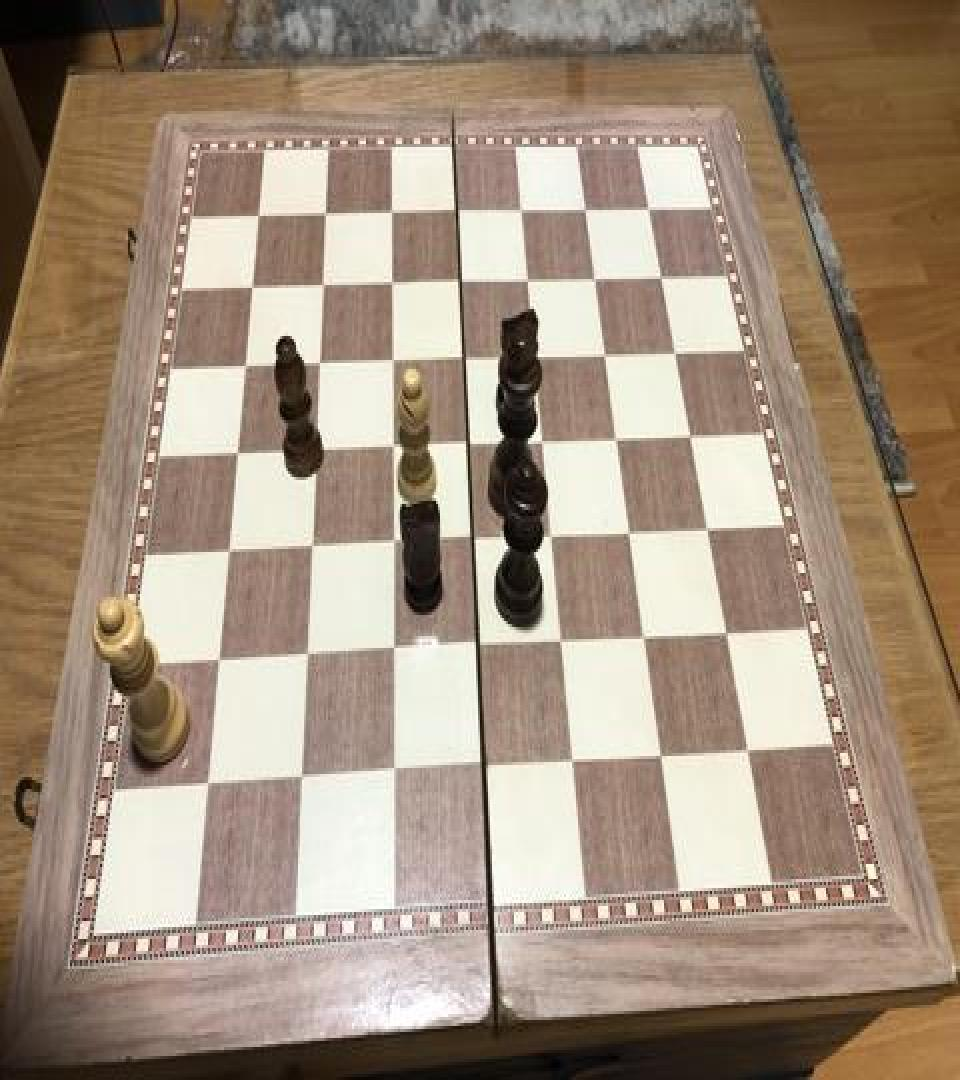xcorner: (538, 514, 562, 551), (464, 625, 488, 662), (379, 631, 403, 668), (636, 186, 660, 222), (573, 189, 597, 225), (509, 190, 533, 226), (444, 194, 468, 230), (379, 195, 403, 231), (313, 198, 337, 234), (246, 200, 270, 236), (648, 255, 672, 291), (582, 256, 606, 292), (447, 262, 471, 298), (379, 266, 403, 302), (309, 268, 333, 304), (239, 272, 263, 308), (662, 330, 686, 366), (592, 333, 616, 369), (522, 336, 546, 372), (451, 339, 475, 375), (379, 342, 403, 378), (306, 346, 330, 382), (232, 350, 256, 386), (604, 417, 628, 453), (530, 420, 554, 456), (455, 424, 479, 460), (379, 429, 403, 465), (302, 432, 326, 468), (224, 436, 248, 472), (694, 506, 718, 542), (616, 510, 640, 546), (459, 519, 483, 555), (379, 524, 403, 560), (298, 528, 322, 564), (215, 534, 239, 570), (713, 609, 737, 645), (631, 614, 655, 650), (548, 620, 572, 656), (293, 636, 317, 672), (205, 642, 229, 678), (734, 724, 758, 760), (647, 730, 671, 766), (559, 738, 583, 774), (469, 746, 493, 782), (379, 752, 403, 788), (287, 759, 311, 795), (194, 766, 218, 802), (515, 260, 539, 295), (677, 413, 701, 448)
